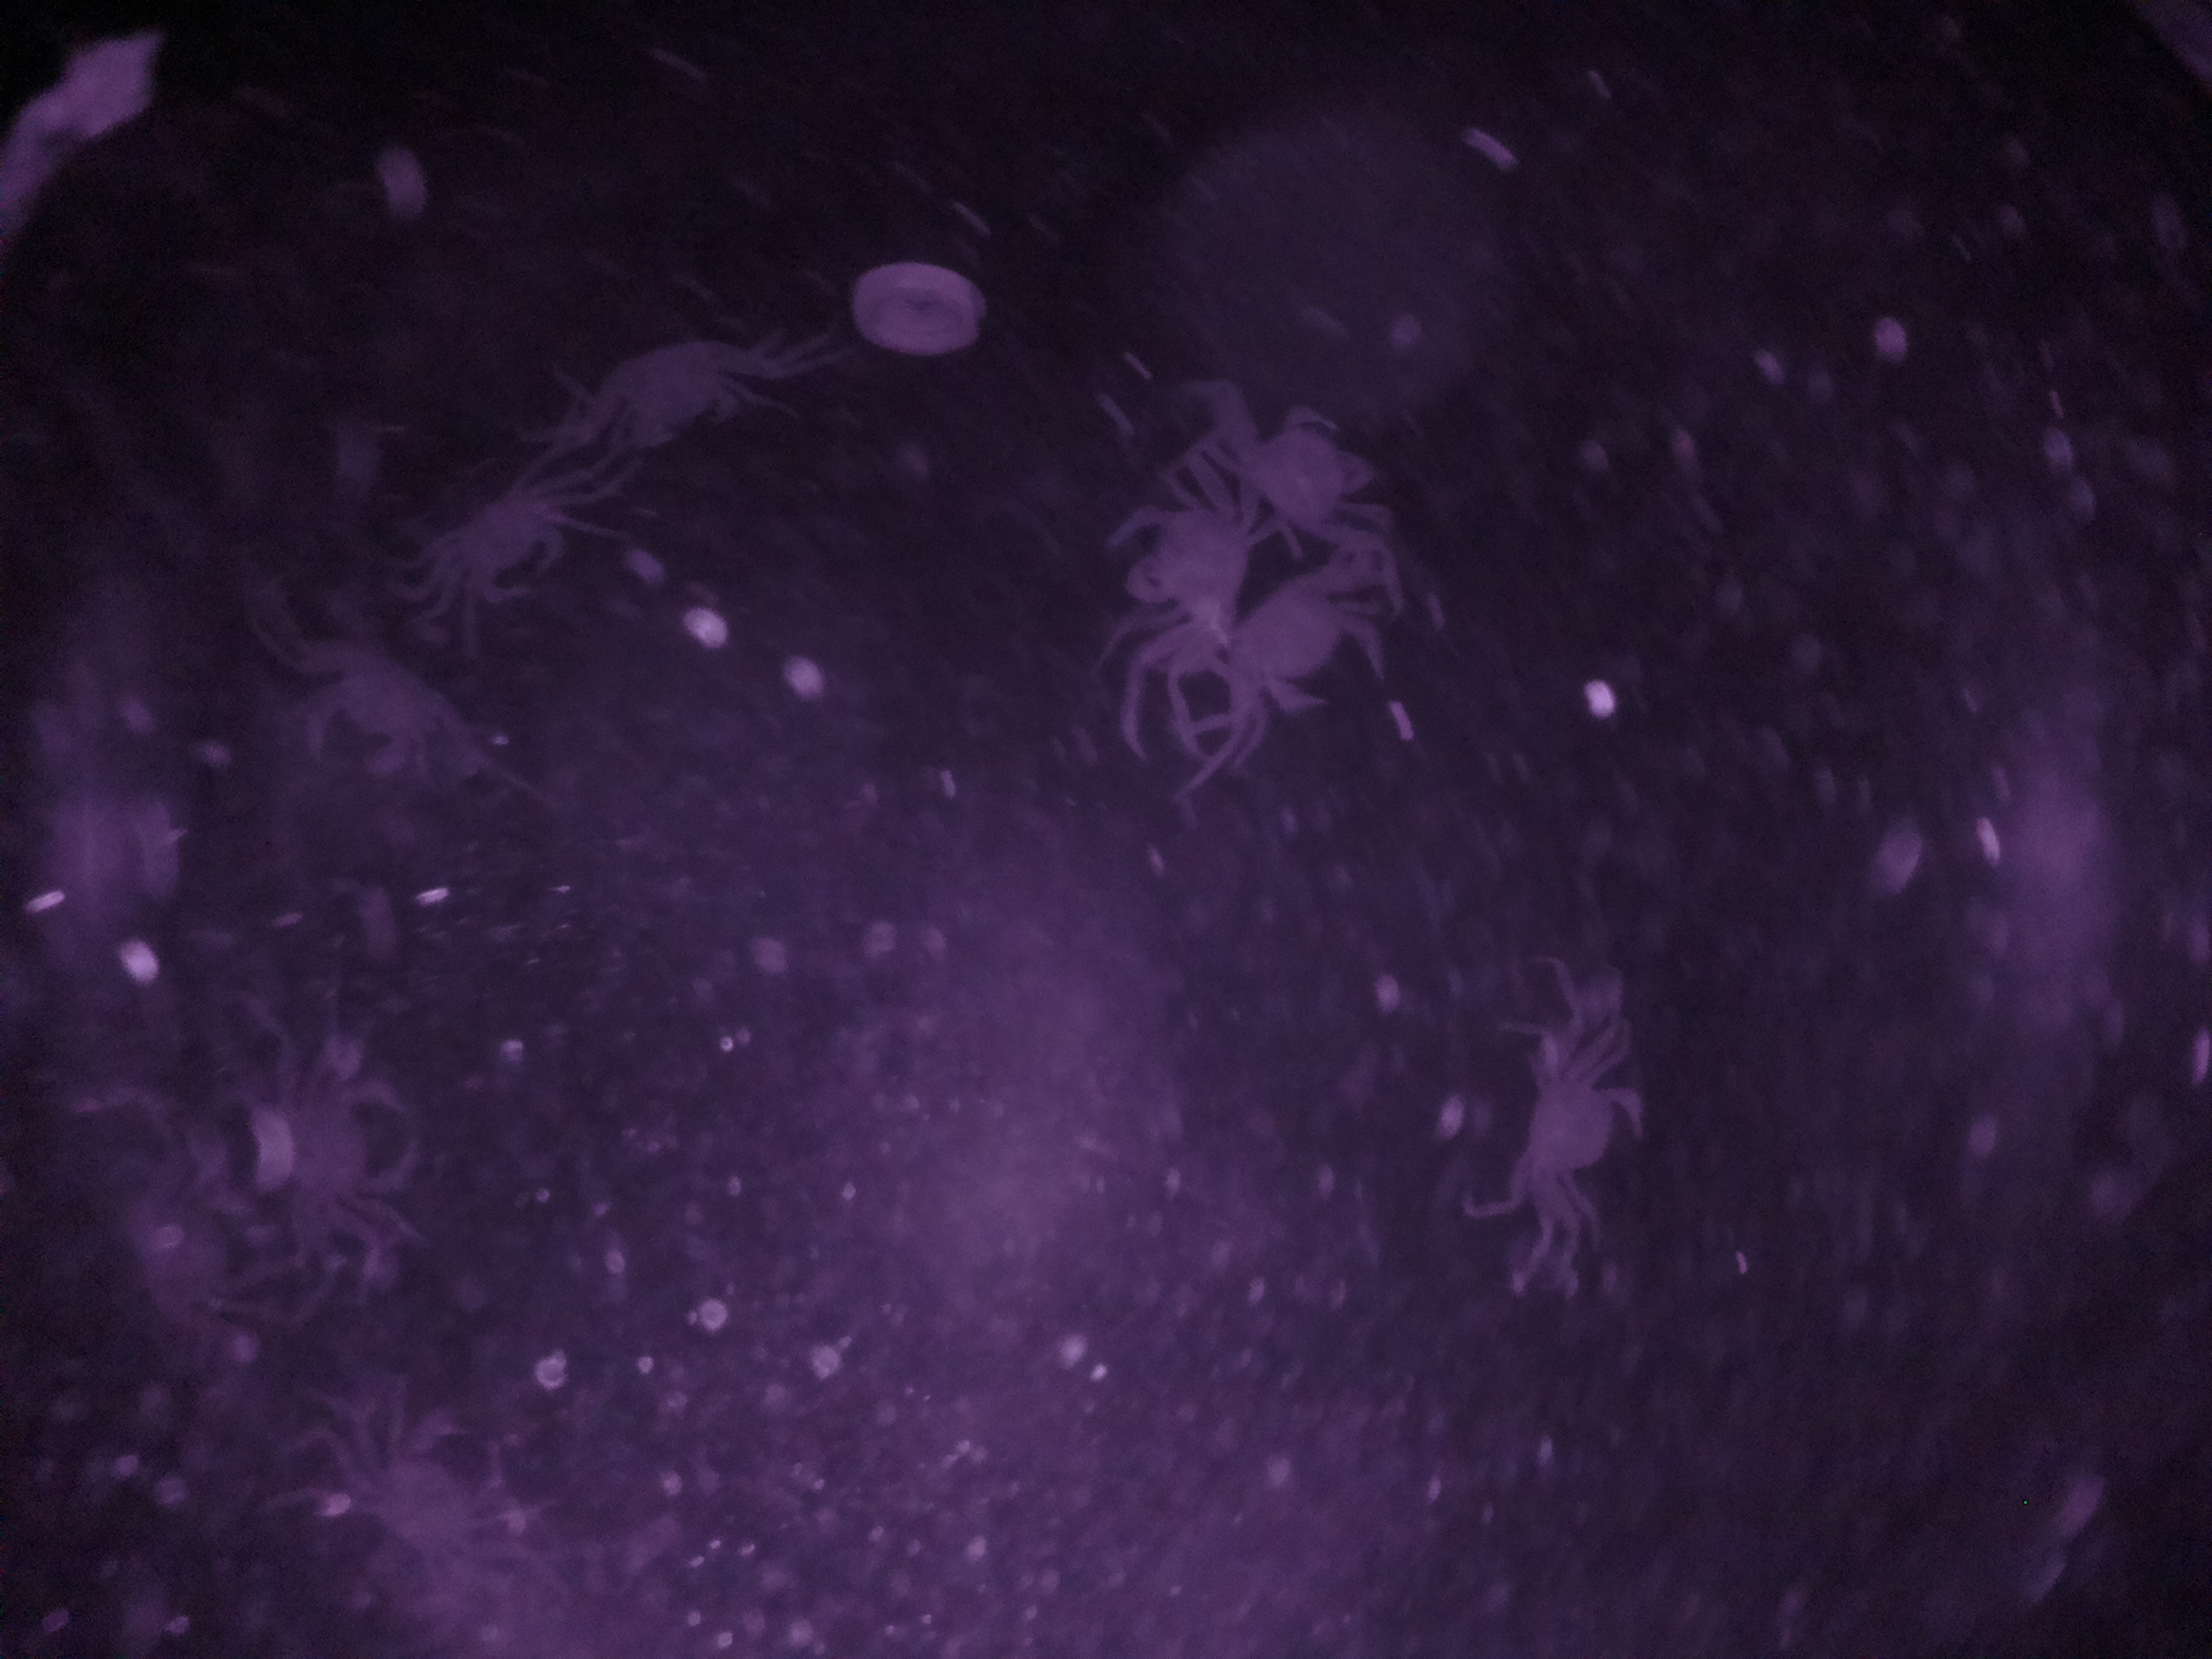Crab: (1472, 1007, 1658, 1255)
